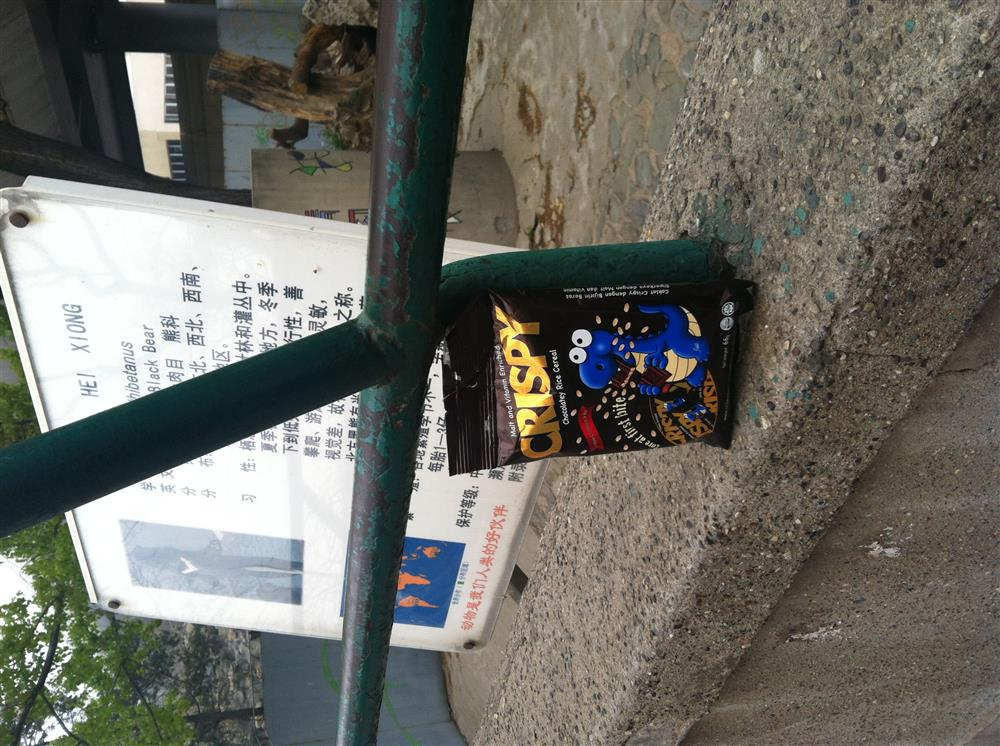CRISPY: (442, 272, 752, 474)
